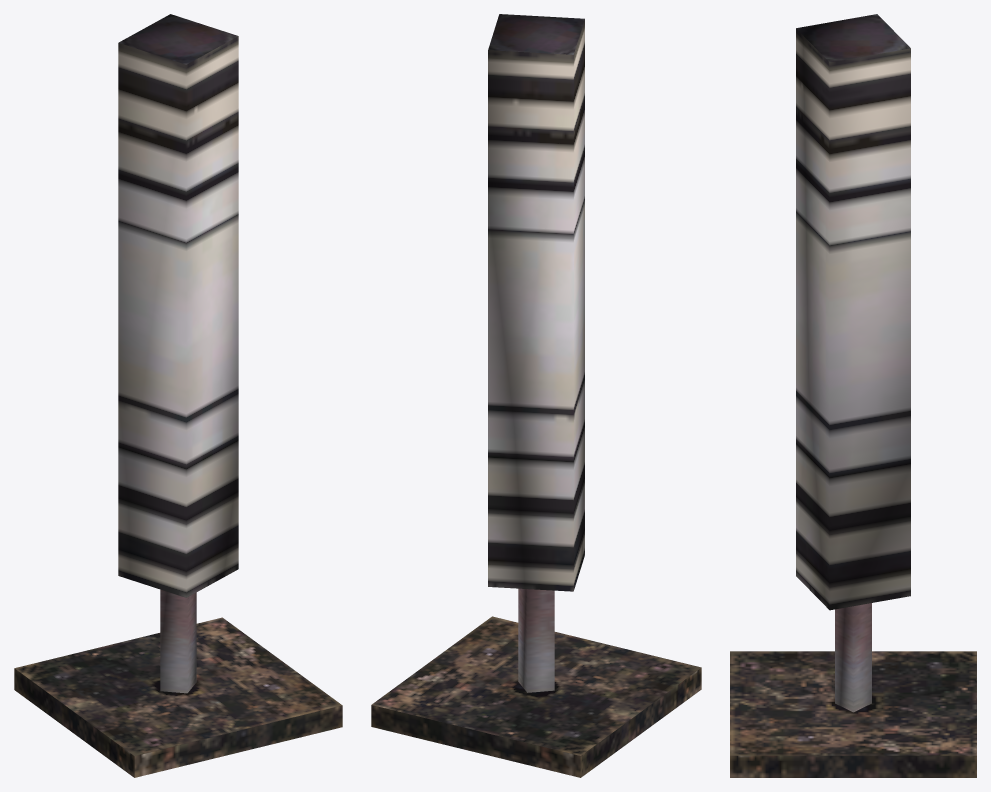
Rendered from frn_all_lamp_desk_s2_l1.fbx.
The picture shows the model from 3 angles, left to right: view 1: azimuth 30°, elevation 25°; view 2: azimuth 150°, elevation 25°; view 3: azimuth 270°, elevation 25°; orthographic projection. The views are drawn at different scales.
Parts seen in each view (by area): view 1: mesh_node; view 2: mesh_node; view 3: mesh_node.
Boxes of the visible parts, box(x1,y1,x2,y2) form: mesh_node: box(14, 14, 342, 777); mesh_node: box(371, 14, 701, 777); mesh_node: box(730, 14, 976, 777).
Size of the model in its own units: 0.1831 by 0.5625 by 0.1831.
Materials: 1 (1 with a texture image).
